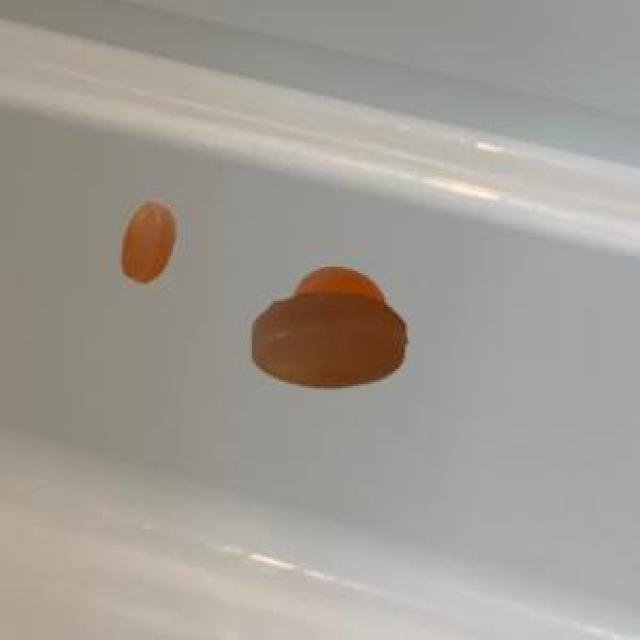Bactidol: (235, 249, 412, 408), (110, 185, 184, 292)
